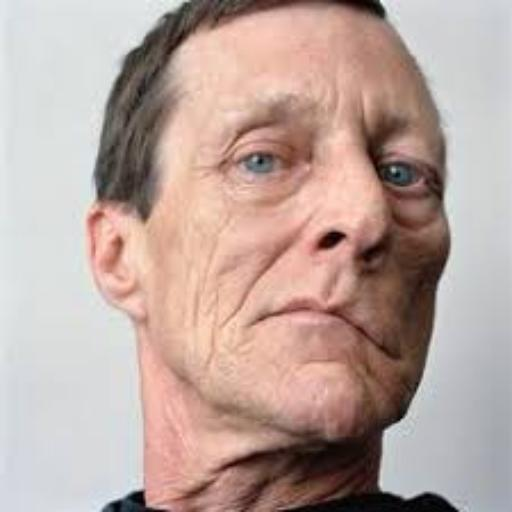left_eye: (376, 162, 436, 192)
left_lip_corner: (368, 330, 404, 366)
right_eye: (229, 150, 301, 179)
right_lip_corner: (239, 312, 276, 333)
